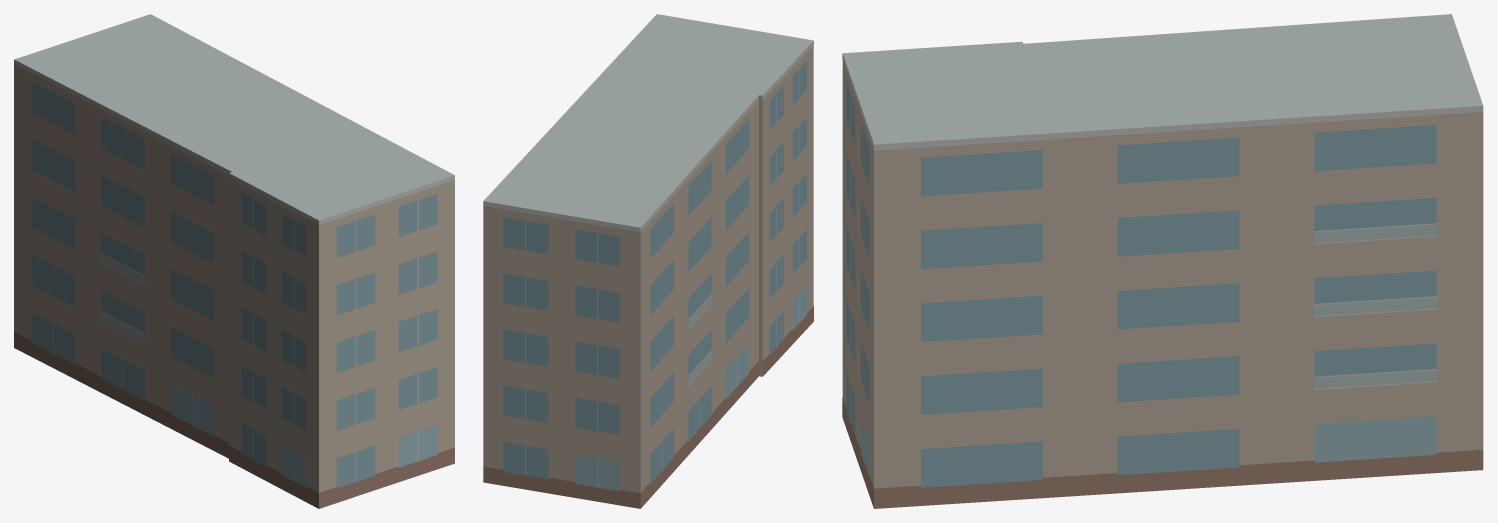
Rendered from survey-upis-32598966.glb.
3 renders of one model, left to right at view 1: azimuth 30°, elevation 25°; view 2: azimuth 150°, elevation 25°; view 3: azimuth 270°, elevation 25°, orthographic. The views are drawn at different scales.
Visible parts, largest first — view 1: survey-upis-32598966.tmp; view 2: survey-upis-32598966.tmp; view 3: survey-upis-32598966.tmp.
Part boxes in pixels (box(x1,y1,x2,y2)): survey-upis-32598966.tmp: box(14, 14, 454, 508); survey-upis-32598966.tmp: box(483, 14, 813, 508); survey-upis-32598966.tmp: box(842, 14, 1483, 508).
Bounding box in the file's own units: 11.44 × 14.85 × 23.69.
